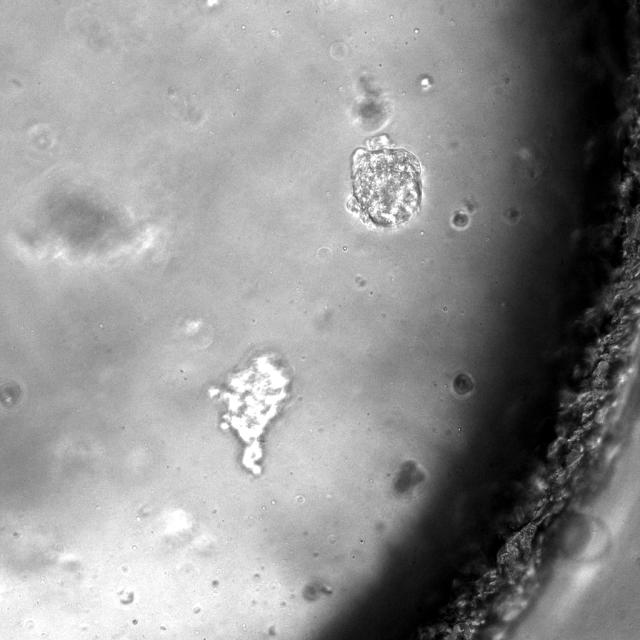organoid: (208, 353, 291, 475), (347, 134, 421, 229), (394, 460, 425, 493), (0, 379, 24, 410), (452, 372, 474, 396), (451, 210, 469, 229)
